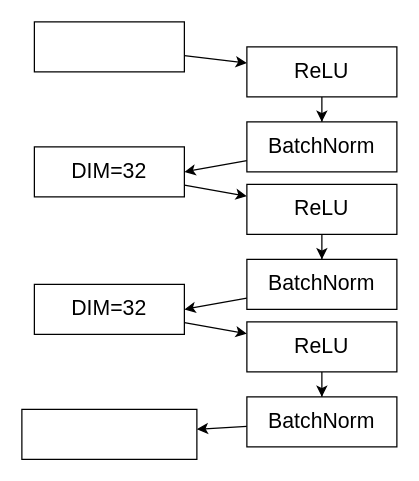
Some shapes in this 419 by 481 pixel diagram are drawn without their labels. The centre of each missing label's shape, as x and y in pixels:
"3(fold, call, raise)" goes at point 109,433.
"STATE_DIM" goes at point 108,46.
